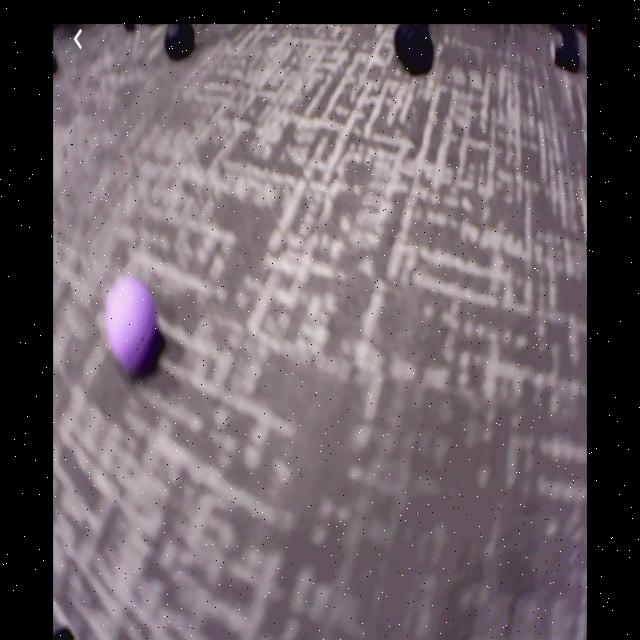ball: (106, 280, 160, 370)
